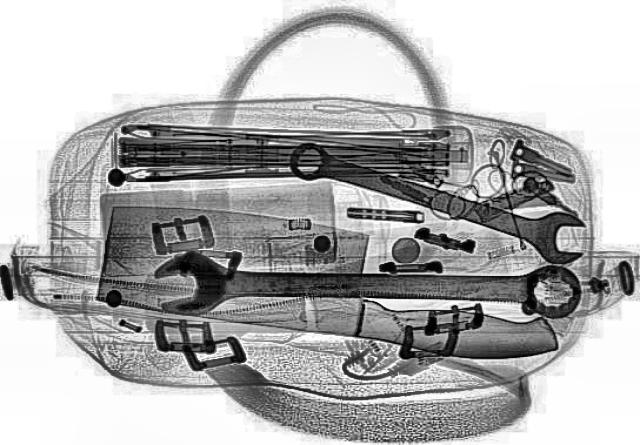Knife: (77, 194, 586, 370)
Wrench: (272, 132, 604, 268), (153, 251, 581, 320)
